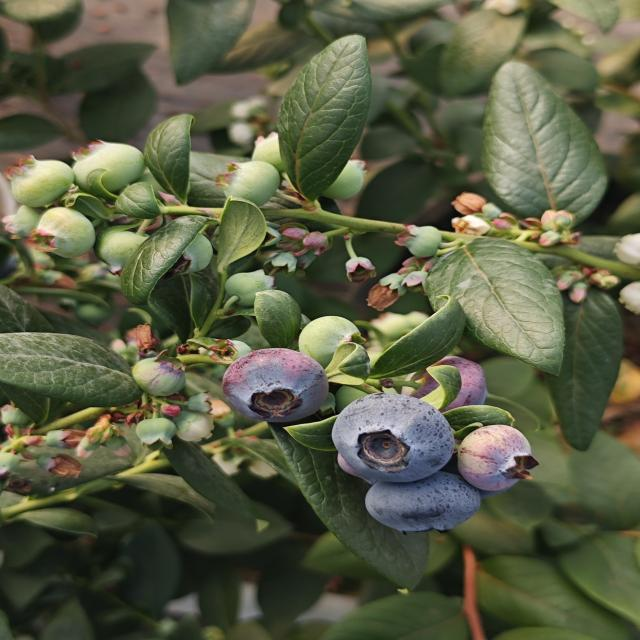ripe: (331, 383, 453, 481), (215, 338, 337, 425), (348, 470, 485, 534), (408, 348, 496, 416)
